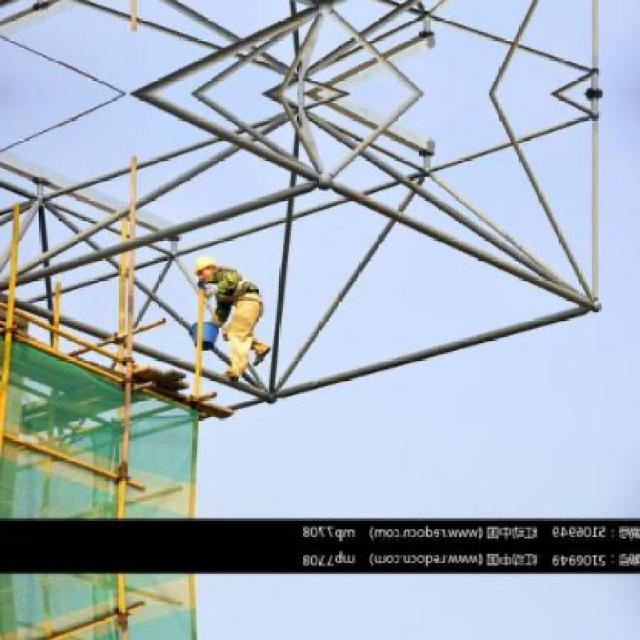con casco: (179, 247, 230, 294)
